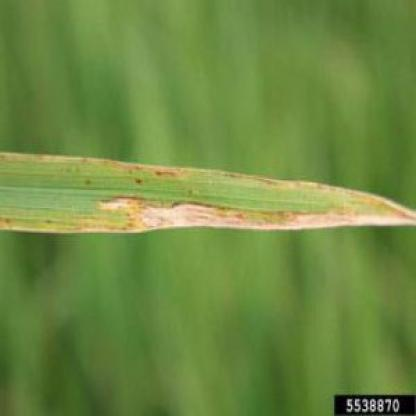Blight: (116, 201, 414, 244)
